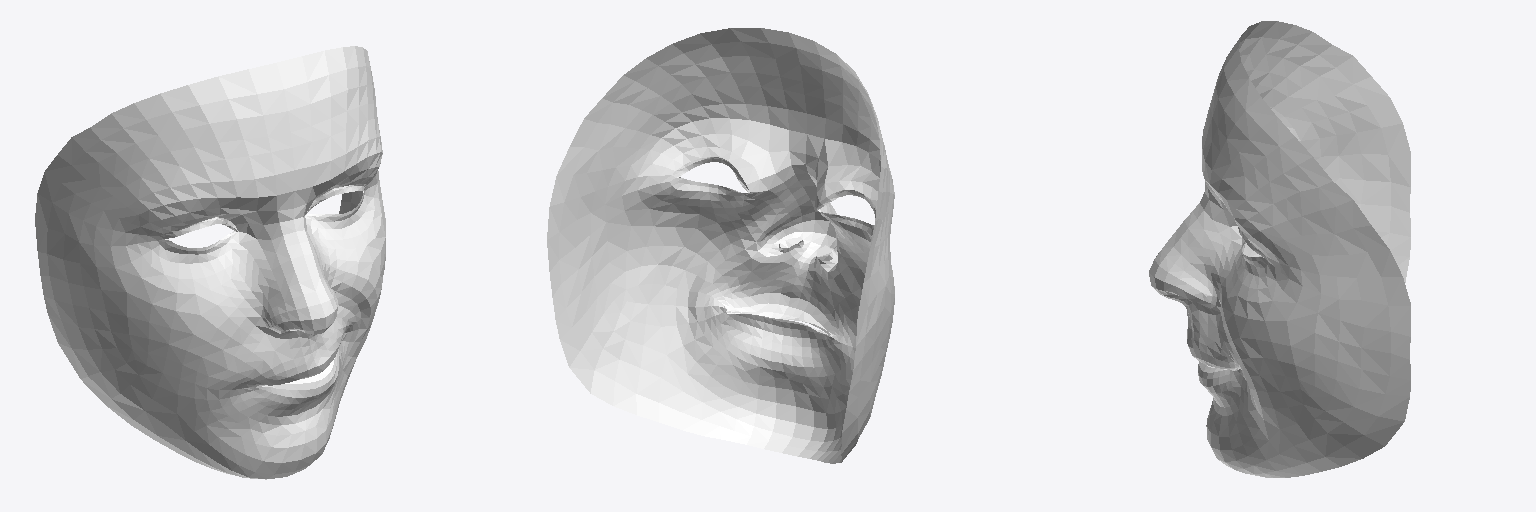
The model's file is mouthLeft.obj.
The picture shows the model from 3 angles: view 1: azimuth 30°, elevation 25°; view 2: azimuth 150°, elevation 25°; view 3: azimuth 270°, elevation 25°; orthographic projection.
Visible parts, largest first — view 1: default; view 2: default; view 3: default.
Boxes of the visible parts, x1,y1,x2,y2 form: default: [35, 46, 385, 479]; default: [547, 28, 894, 463]; default: [1149, 21, 1410, 477].
Size of the model in its own units: 0.1447 by 0.1836 by 0.105.